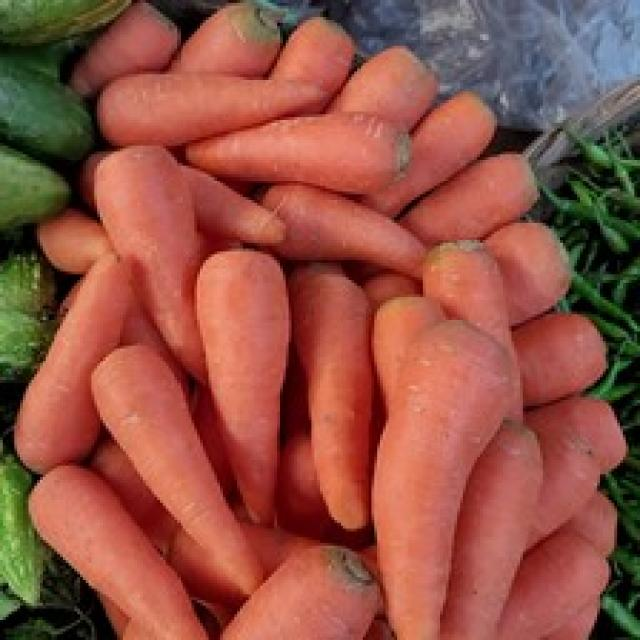Fresh_Carrot: (377, 316, 510, 640), (185, 243, 301, 515), (13, 263, 130, 451), (192, 104, 414, 192), (100, 70, 321, 134)
